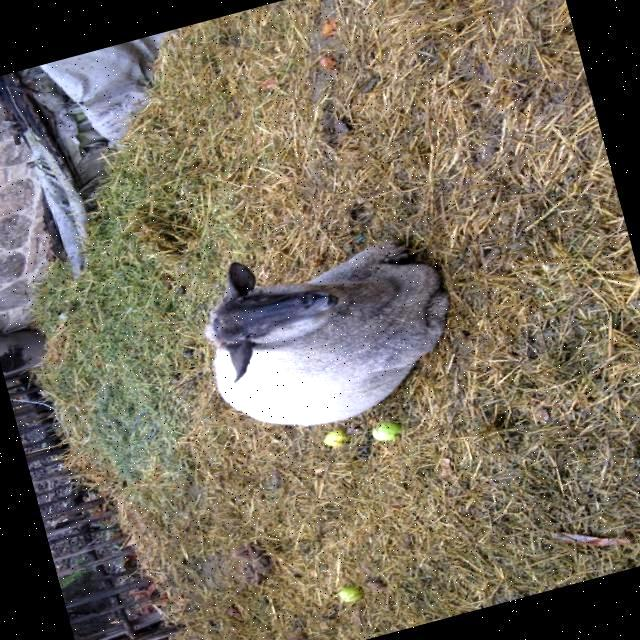sheep: (203, 241, 448, 425)
